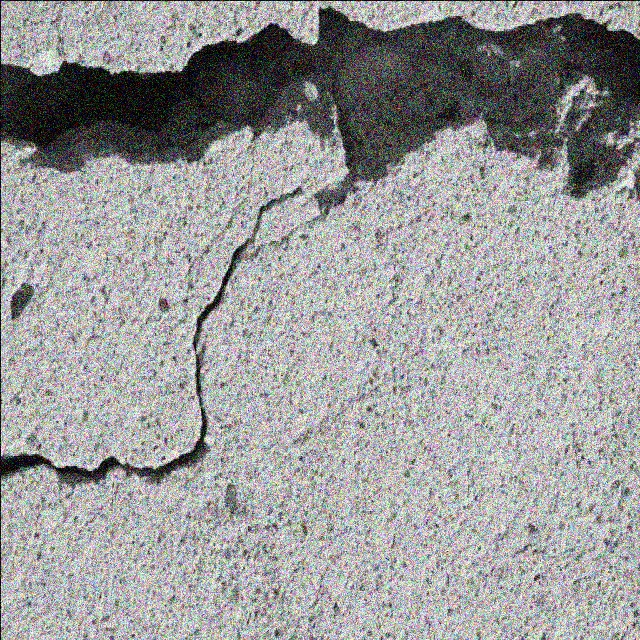SurfaceCrack: (1, 3, 614, 583)
